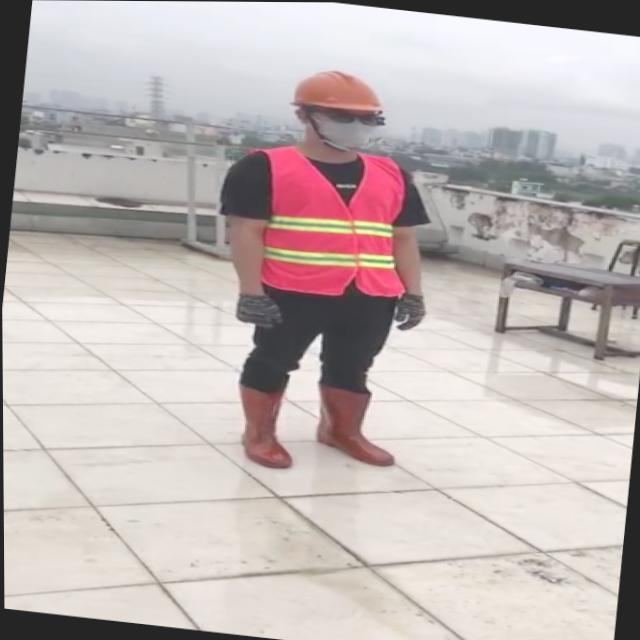goggles_on: (321, 102, 387, 130)
